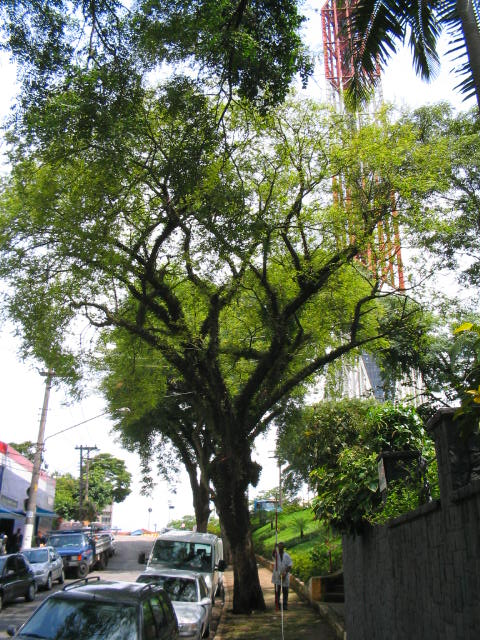crown: (4, 82, 470, 387)
stem: (213, 509, 270, 614)
stick: (269, 492, 282, 609)
tree: (2, 80, 471, 616)
